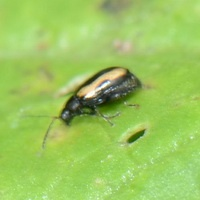insect: (42, 67, 141, 147)
